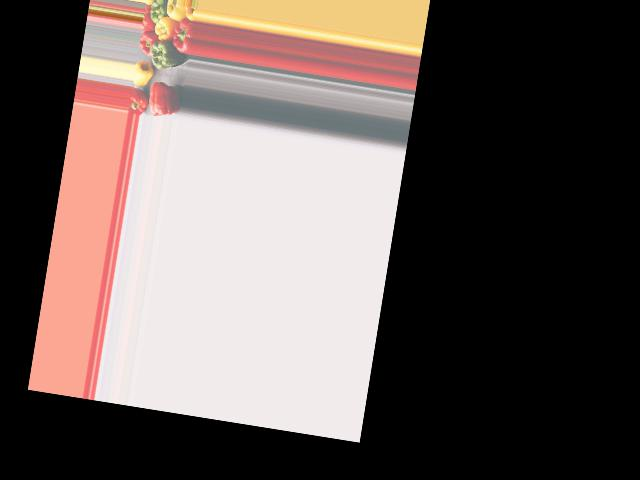bell_pepper: (129, 87, 149, 116)
